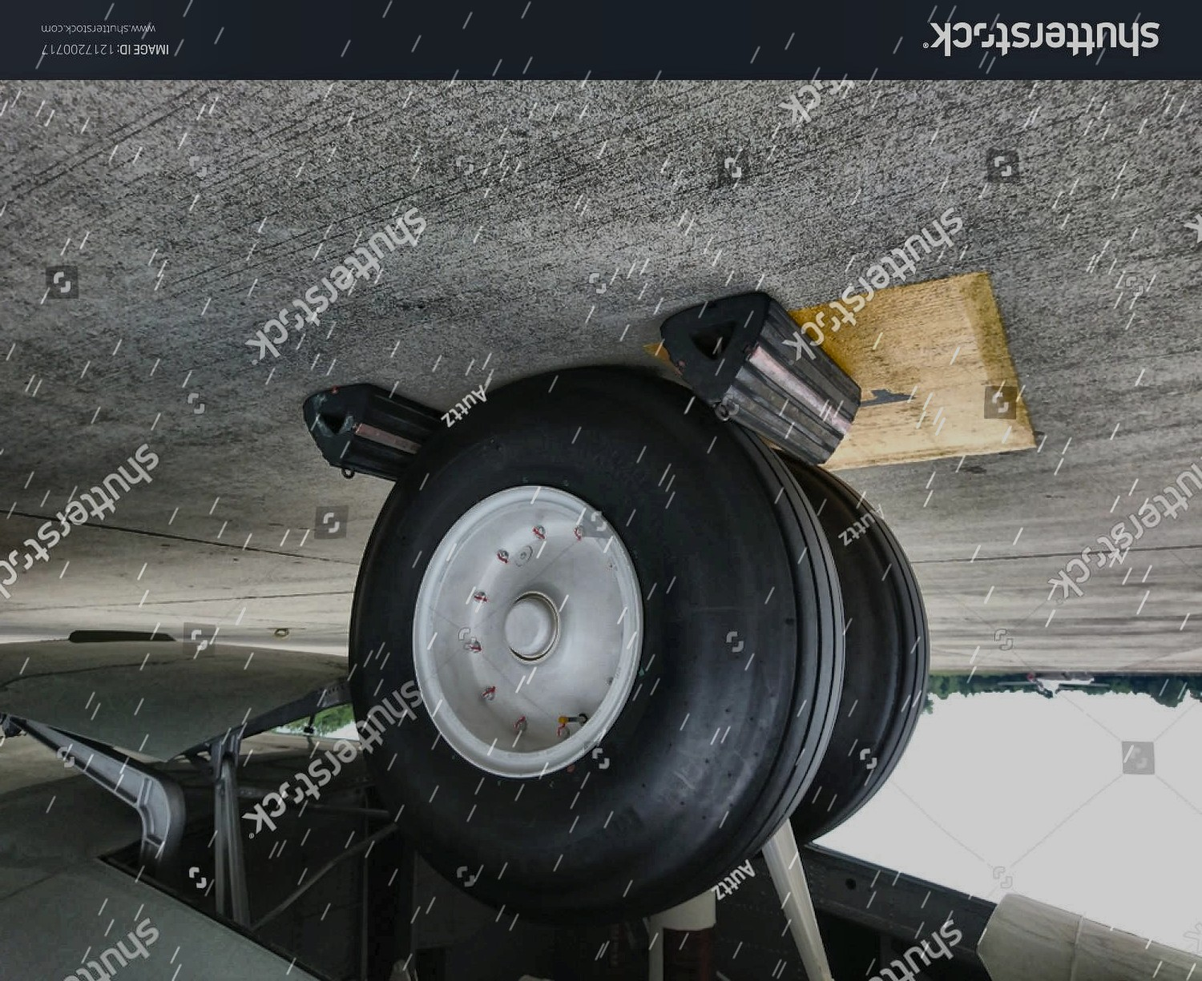chock: (661, 291, 862, 468), (300, 380, 454, 495)
wheel: (373, 366, 824, 923), (769, 457, 934, 847)
